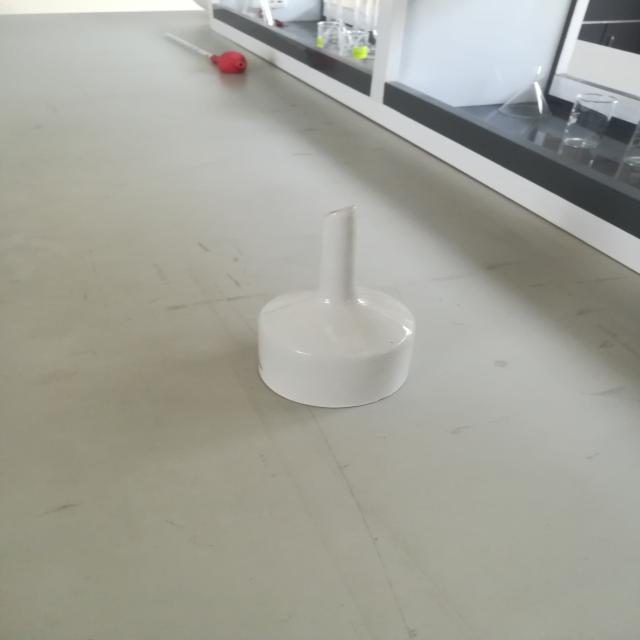Buchner_Funnel: (188, 165, 462, 435)
